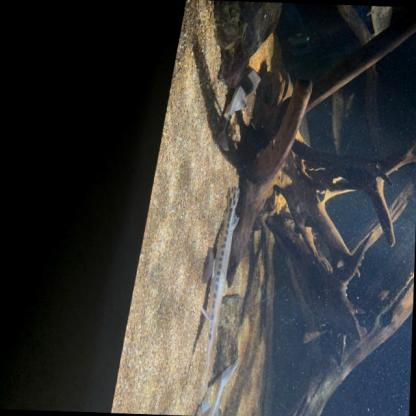fish: (199, 182, 240, 404)
shark: (213, 65, 261, 151), (188, 356, 240, 416)
